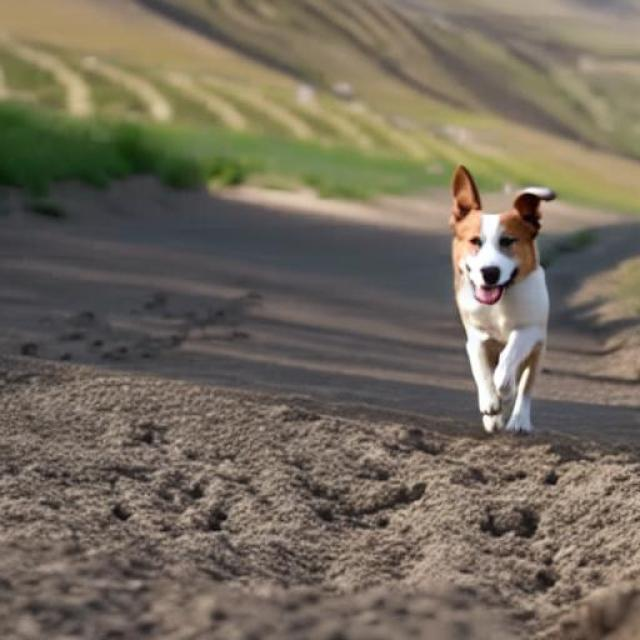Dog: (449, 166, 558, 433)
